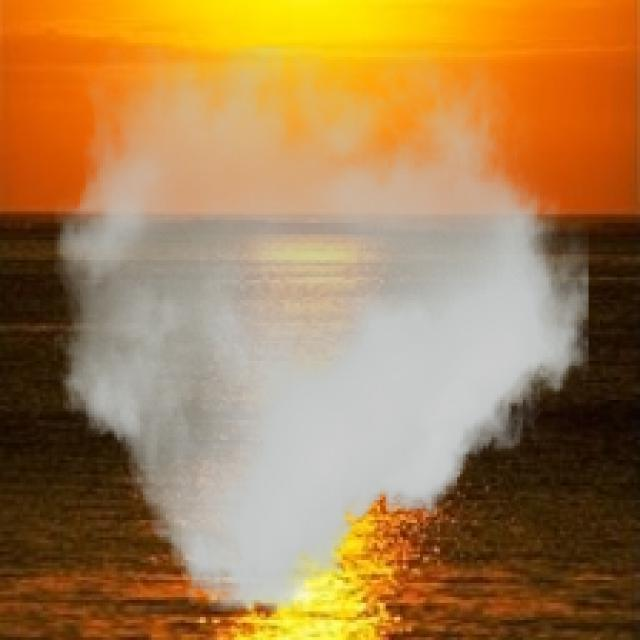smoke: (54, 46, 589, 611)
